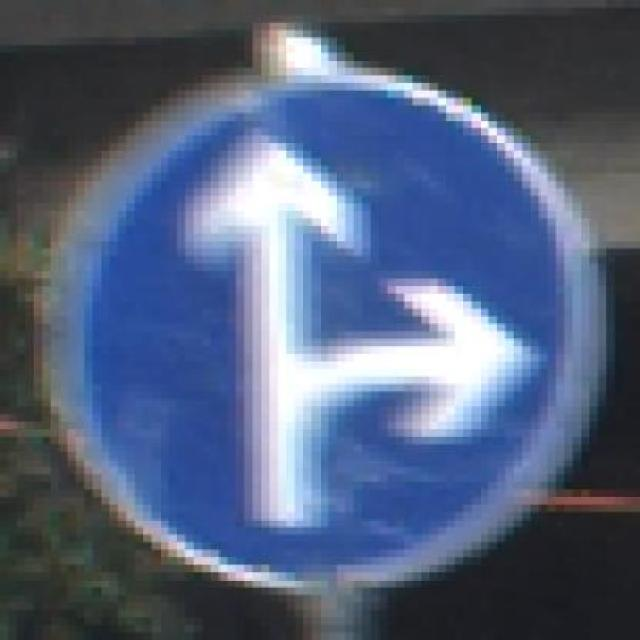Go Straight or Turn Right: (34, 53, 606, 610)
